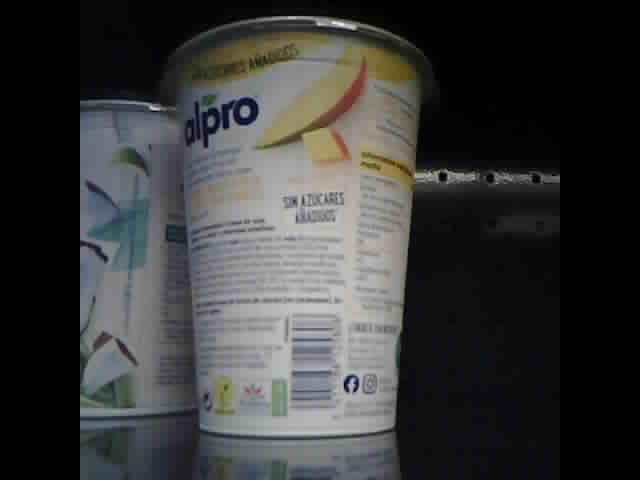alpro: (157, 15, 434, 440), (80, 92, 205, 419)
